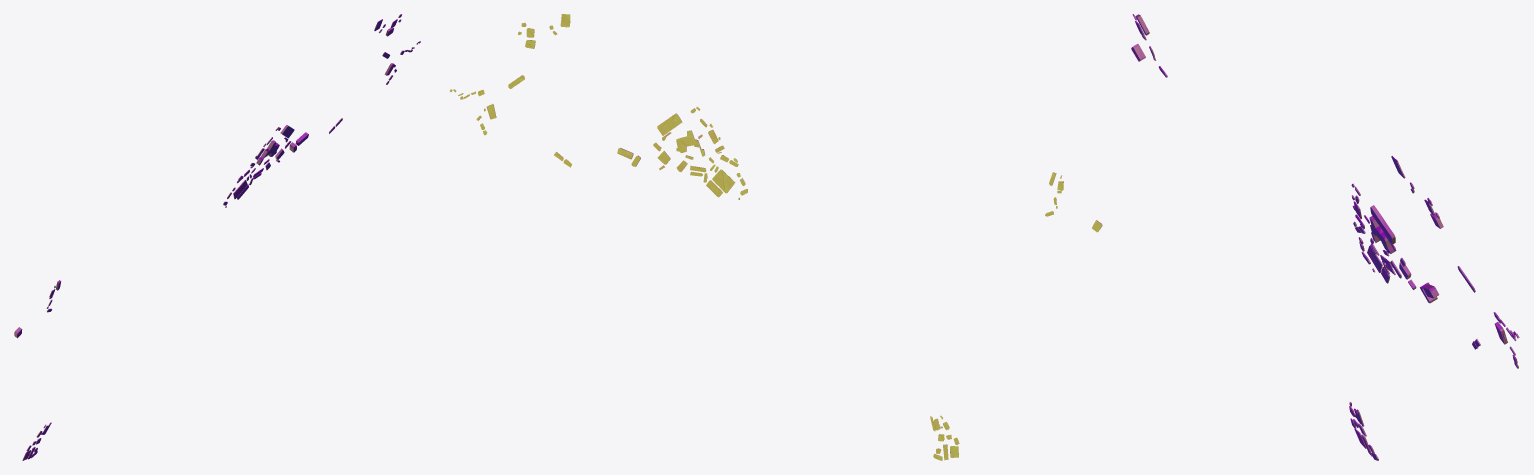
3 views of the same model, side by side, from view 1: azimuth 30°, elevation 25°; view 2: azimuth 150°, elevation 25°; view 3: azimuth 270°, elevation 25° (orthographic). The views are drawn at different scales.
Visible parts, largest first — view 1: geometry_0; view 2: geometry_0; view 3: geometry_0.
Part boxes in pixels (x1,y1,x2,y2): geometry_0: (14,14,420,460); geometry_0: (450,14,1102,460); geometry_0: (1131,14,1519,460).
Bounding box in the file's own units: 1586 × 1017 × 597.
